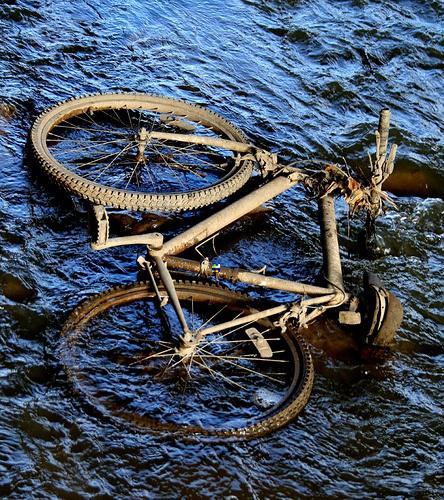car: (30, 93, 403, 443)
